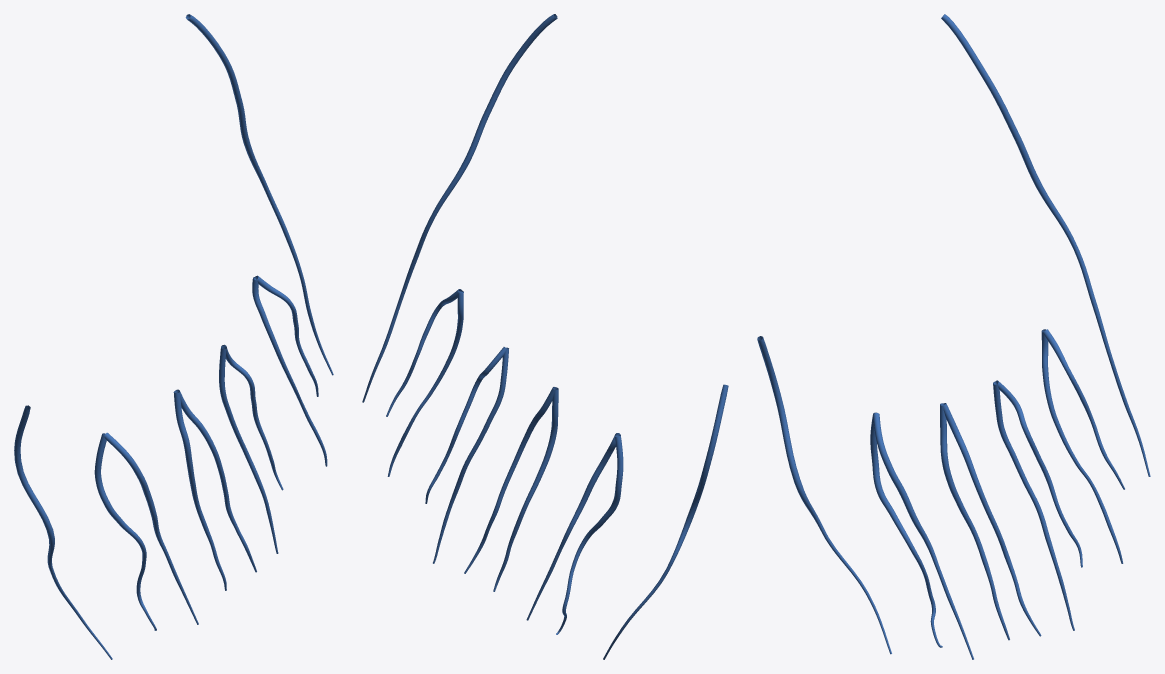
The picture shows the model from 3 angles, left to right: view 1: azimuth 30°, elevation 25°; view 2: azimuth 150°, elevation 25°; view 3: azimuth 330°, elevation 25°; orthographic projection. The views are drawn at different scales.
Parts seen in each view (by area): view 1: 左侧趾足底静脉; view 2: 左侧趾足底静脉; view 3: 左侧趾足底静脉.
Boxes of the visible parts, bbox=[...] form: 左侧趾足底静脉: bbox=[14, 14, 333, 659]; 左侧趾足底静脉: bbox=[362, 14, 728, 659]; 左侧趾足底静脉: bbox=[757, 14, 1150, 659].
Bounding box in the file's own units: 0.1222 × 0.2179 × 0.0235.
